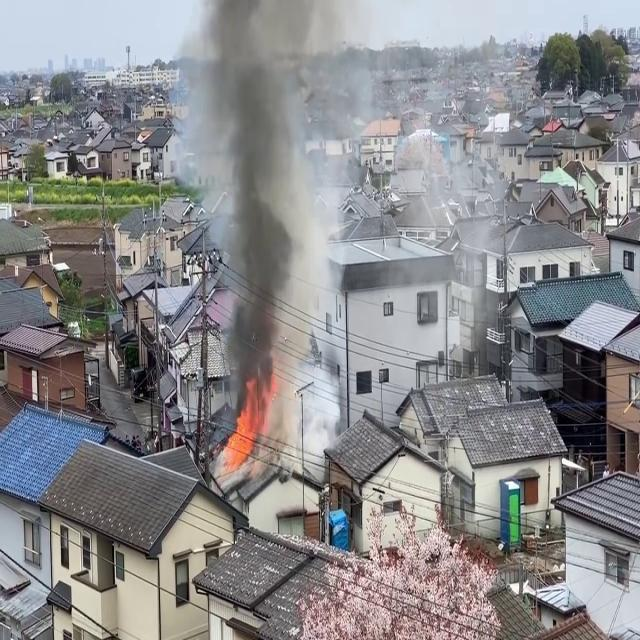Fire: (220, 391, 263, 474)
Smoke: (198, 1, 350, 456)
